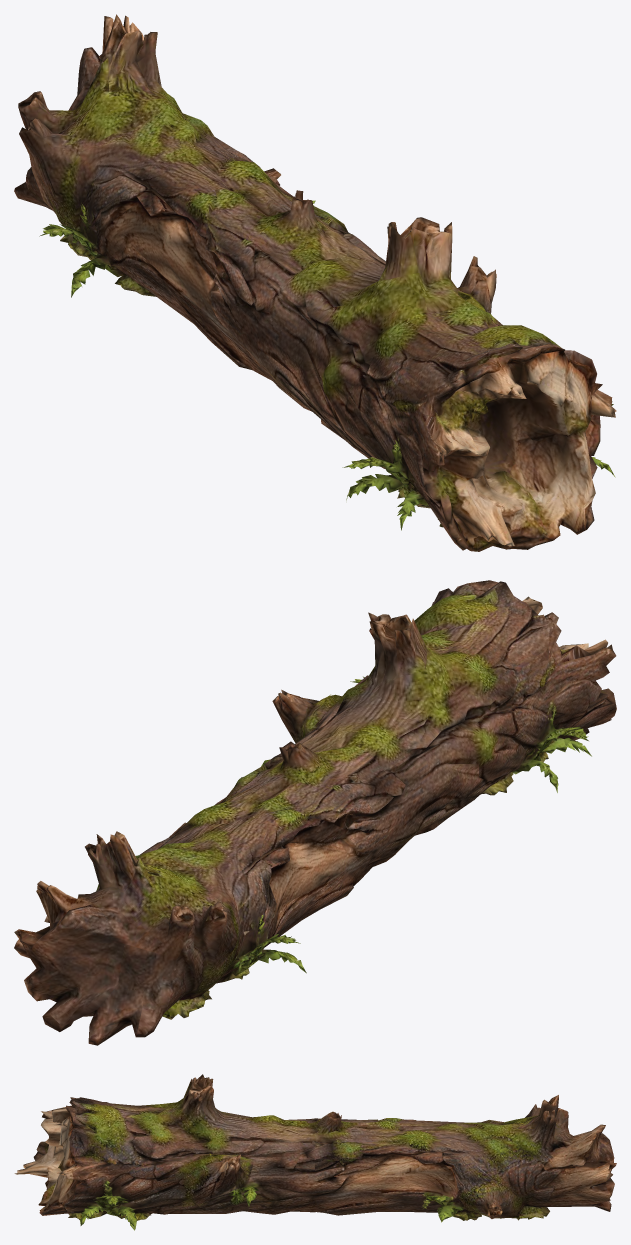
The model's file is fallen-log.glb.
3 renders of one model, top to bottom at view 1: azimuth 30°, elevation 25°; view 2: azimuth 150°, elevation 25°; view 3: azimuth 270°, elevation 25°, orthographic. The views are drawn at different scales.
Visible parts, largest first — view 1: tripo_node_95d10185-ecfd-40d6-982e-d622b2525503; view 2: tripo_node_95d10185-ecfd-40d6-982e-d622b2525503; view 3: tripo_node_95d10185-ecfd-40d6-982e-d622b2525503.
Part boxes in pixels (bbox=[...]): tripo_node_95d10185-ecfd-40d6-982e-d622b2525503: bbox=[14, 14, 616, 551]; tripo_node_95d10185-ecfd-40d6-982e-d622b2525503: bbox=[14, 580, 616, 1045]; tripo_node_95d10185-ecfd-40d6-982e-d622b2525503: bbox=[14, 1074, 616, 1230].
Bounding box in the file's own units: 0.2953 × 0.2347 × 0.9812.
Materials: 1 (1 with a texture image).
